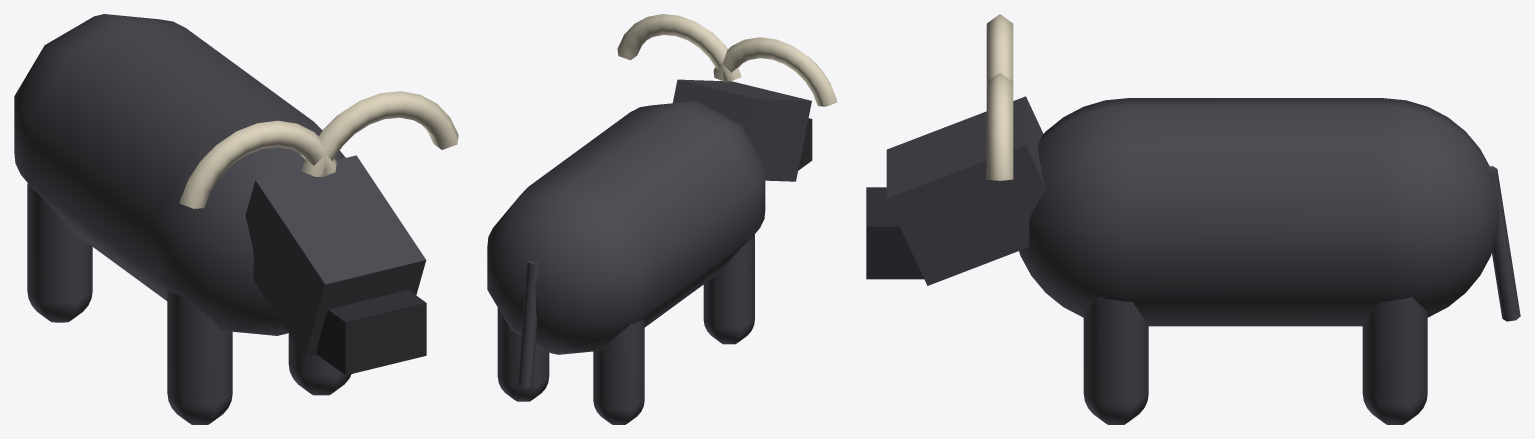
File: trau.glb
The picture shows the model from 3 angles, left to right: view 1: azimuth 30°, elevation 25°; view 2: azimuth 150°, elevation 25°; view 3: azimuth 270°, elevation 25°; orthographic projection. The views are drawn at different scales.
Visible parts, largest first — view 1: Body, Head, LegFL, LegBL, LegFR; view 2: Body, Head, LegBL, LegFL, LegBR, Tail; view 3: Body, Head, LegFR, LegBR, Tail.
Part boxes in pixels (x1,y1,x2,y2): Body: [14, 14, 345, 335]; Head: [179, 91, 458, 375]; LegFL: [167, 290, 232, 424]; LegBL: [27, 183, 92, 322]; LegFR: [288, 333, 351, 395]; Body: [487, 101, 765, 354]; Head: [617, 14, 837, 181]; LegBL: [593, 318, 644, 424]; LegFL: [703, 234, 754, 344]; LegBR: [497, 307, 549, 401]; Tail: [518, 261, 539, 387]; Body: [1019, 98, 1498, 326]; Head: [866, 14, 1045, 285]; LegFR: [1083, 297, 1148, 424]; LegBR: [1362, 297, 1427, 424]; Tail: [1488, 166, 1520, 321].
Bounding box in the file's own units: 0.2767 × 0.324 × 0.5629.
